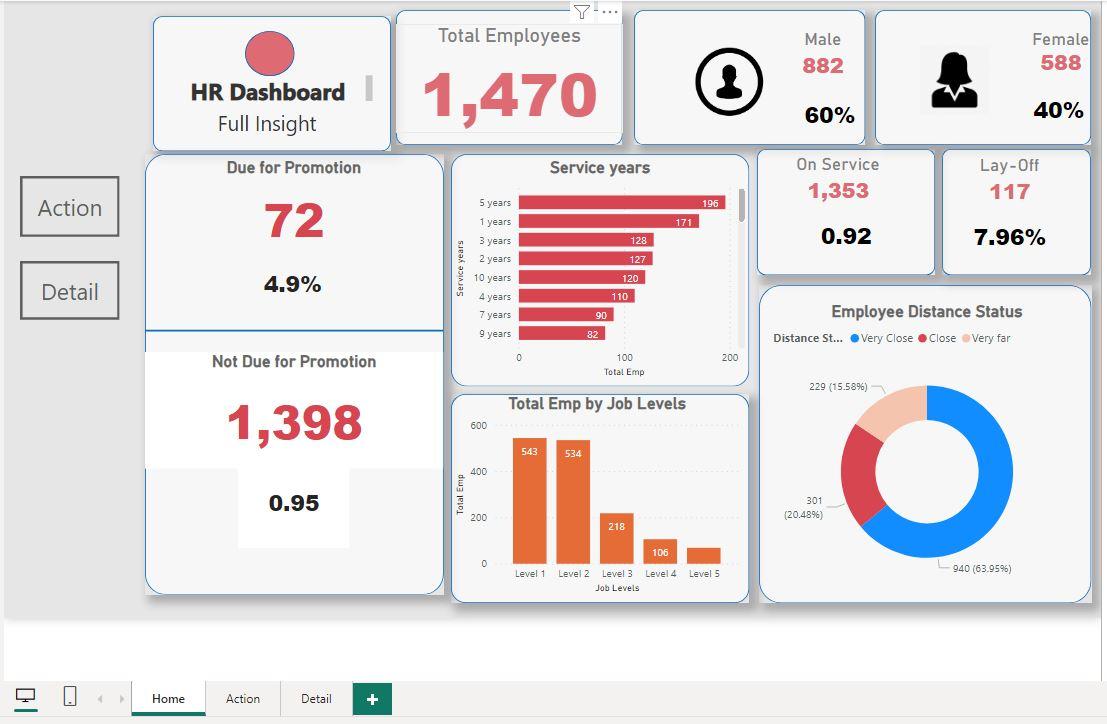

Layout of this report page (visuals, bound fields, positions):
{"tool":"powerbi","page":{"name":"Home","canvas":[1280,720],"ordinal":0},"visuals":[{"type":"shape","box":[173.7,17.1,277.6,157.9],"z":0},{"type":"shape","box":[457.7,11,264.5,157.6],"z":1000},{"type":"shape","box":[734.6,11,270,157.6],"z":2000},{"type":"shape","box":[1016.9,11,252.2,157.6],"z":3000},{"type":"shape","box":[164.5,178.9,348.7,514.5],"z":4000},{"type":"shape","box":[522.1,178.2,348.1,271.3],"z":5000},{"type":"shape","box":[522.1,459.1,348.1,243.9],"z":6000},{"type":"shape","box":[878.9,172.4,207.9,147.4],"z":7000},{"type":"shape","box":[881.2,331.6,387.8,371.4],"z":8000},{"type":"shape","box":[1094.7,172.4,173.7,147.4],"z":9000},{"type":"textbox","box":[189.5,81.6,246.1,43.4],"z":10000},{"type":"textbox","box":[189.5,119.7,235.5,50],"z":11000},{"type":"shape","box":[281.6,35.5,57.9,52.6],"z":12000},{"type":"card","title":"Total Employees","fields":{"Values":["All Measures.Total Emp"]},"box":[457.9,26.3,264.5,127.6],"z":13000},{"type":"card","title":"Male","fields":{"Values":["All Measures.Male"]},"box":[908.6,32.9,93.2,63],"z":14000},{"type":"card","title":"Male","fields":{"Values":["All Measures.% male"]},"box":[925.1,106.9,76.7,53.4],"z":15000},{"type":"card","title":"Female","fields":{"Values":["All Measures.Female"]},"box":[1186.8,32.9,93.2,57.6],"z":16000},{"type":"card","title":"Male","fields":{"Values":["All Measures.% female"]},"box":[1192.3,101.4,76.7,53.4],"z":17000},{"type":"card","title":"Due for Promotion","fields":{"Values":["All Measures.Due for Promotion"]},"box":[174,183.6,328.9,117.9],"z":18000},{"type":"card","fields":{"Values":["All Measures.% Due for pormotion"]},"box":[291.9,301.5,90.4,58.9],"z":19000},{"type":"card","title":"Not Due for Promotion","fields":{"Values":["All Measures.Not Due"]},"box":[164.5,409.8,348.1,135.7],"z":20000},{"type":"card","fields":{"Values":["All Measures.% Not Due"]},"box":[272.7,534.5,130.2,104.2],"z":21000},{"type":"shape","box":[164.5,234.3,348.1,300.1],"z":22000},{"type":"barChart","title":"Service years","fields":{"Category":["HR Analytics Data.Service years"],"Y":["All Measures.Total Emp"]},"box":[522.1,183.6,348.1,260.4],"z":23000},{"type":"columnChart","fields":{"Category":["HR Analytics Data.Job Levels"],"Y":["All Measures.Total Emp"]},"box":[522.1,459.1,341.2,237.1],"z":24000},{"type":"card","title":"On Service","fields":{"Values":["All Measures.On Service"]},"box":[870.2,178.2,205.6,64.4],"z":25000},{"type":"card","title":"Male","fields":{"Values":["All Measures.% On Service"]},"box":[934.6,248.1,95.9,53.4],"z":26000},{"type":"card","title":"Lay-Off","fields":{"Values":["All Measures.Lay-Off"]},"box":[1086.8,179.5,174,64.4],"z":27000},{"type":"card","title":"Male","fields":{"Values":["All Measures.% Lay-Off"]},"box":[1125.1,249.4,97.3,53.4],"z":28000},{"type":"donutChart","title":"Employee Distance Status","fields":{"Category":["HR Analytics Data.Distance Status"],"Y":["All Measures.Total Emp"]},"box":[892.2,350.8,368.7,345.4],"z":29000},{"type":"actionButton","title":"ACTION","box":[19.2,204.2,116.5,71.3],"z":30000},{"type":"actionButton","title":"DETAIL","box":[19.2,302.9,116.5,68.5],"z":31000},{"type":"image","box":[781.6,46.1,127.6,98.7],"z":32000},{"type":"image","box":[1060.5,46.1,96.1,93.4],"z":33000}]}

Visuals, with their boxes on the page's 1280x720 design canvas (x1, y1, x2, y2). These are canvas units, not pixel positions in the 1107x724 screenshot, which may show the page scaled, cropped or inside an application window:
shape: left=174, top=17, right=451, bottom=175
shape: left=458, top=11, right=722, bottom=169
shape: left=735, top=11, right=1005, bottom=169
shape: left=1017, top=11, right=1269, bottom=169
shape: left=164, top=179, right=513, bottom=693
shape: left=522, top=178, right=870, bottom=450
shape: left=522, top=459, right=870, bottom=703
shape: left=879, top=172, right=1087, bottom=320
shape: left=881, top=332, right=1269, bottom=703
shape: left=1095, top=172, right=1268, bottom=320
textbox: left=190, top=82, right=436, bottom=125
textbox: left=190, top=120, right=425, bottom=170
shape: left=282, top=36, right=340, bottom=88
"Total Employees" card: left=458, top=26, right=722, bottom=154
"Male" card: left=909, top=33, right=1002, bottom=96
"Male" card: left=925, top=107, right=1002, bottom=160
"Female" card: left=1187, top=33, right=1280, bottom=90
"Male" card: left=1192, top=101, right=1269, bottom=155
"Due for Promotion" card: left=174, top=184, right=503, bottom=302
card - All Measures.% Due for pormotion: left=292, top=302, right=382, bottom=360
"Not Due for Promotion" card: left=164, top=410, right=513, bottom=546
card - All Measures.% Not Due: left=273, top=534, right=403, bottom=639
shape: left=164, top=234, right=513, bottom=534
"Service years" barChart: left=522, top=184, right=870, bottom=444
columnChart - HR Analytics Data.Job Levels x All Measures.Total Emp: left=522, top=459, right=863, bottom=696
"On Service" card: left=870, top=178, right=1076, bottom=243
"Male" card: left=935, top=248, right=1030, bottom=302
"Lay-Off" card: left=1087, top=180, right=1261, bottom=244
"Male" card: left=1125, top=249, right=1222, bottom=303
"Employee Distance Status" donutChart: left=892, top=351, right=1261, bottom=696
"ACTION" actionButton: left=19, top=204, right=136, bottom=276
"DETAIL" actionButton: left=19, top=303, right=136, bottom=371
image: left=782, top=46, right=909, bottom=145
image: left=1060, top=46, right=1157, bottom=140
